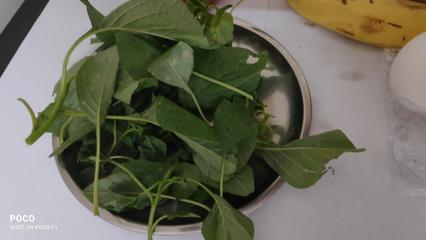spinach: (85, 27, 272, 206)
